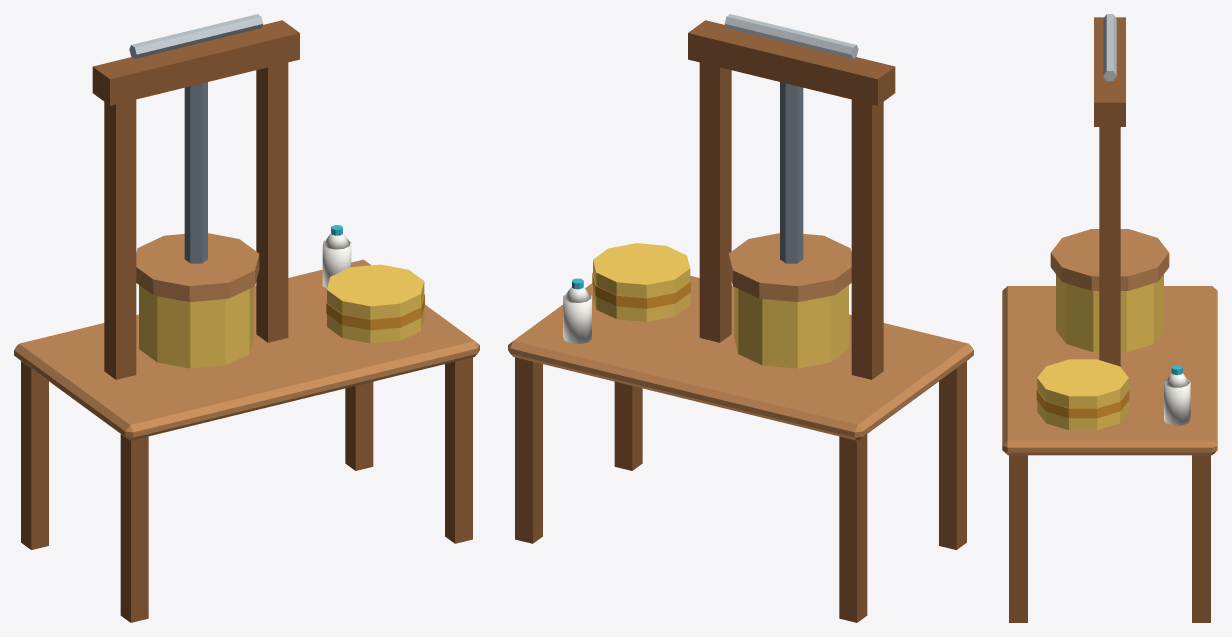
The model's file is station_cheese_press.glb.
3 views of the same model, side by side, from view 1: azimuth 30°, elevation 25°; view 2: azimuth 150°, elevation 25°; view 3: azimuth 270°, elevation 25° (orthographic). The views are drawn at different scales.
Parts seen in each view (by area): view 1: station_cheese_press; view 2: station_cheese_press; view 3: station_cheese_press.
Boxes of the visible parts, left/top/right/bottom form: station_cheese_press: left=14, top=14, right=479, bottom=622; station_cheese_press: left=508, top=14, right=973, bottom=622; station_cheese_press: left=1002, top=14, right=1217, bottom=622.
Bounding box in the file's own units: 1.4 × 1.97 × 0.8.
